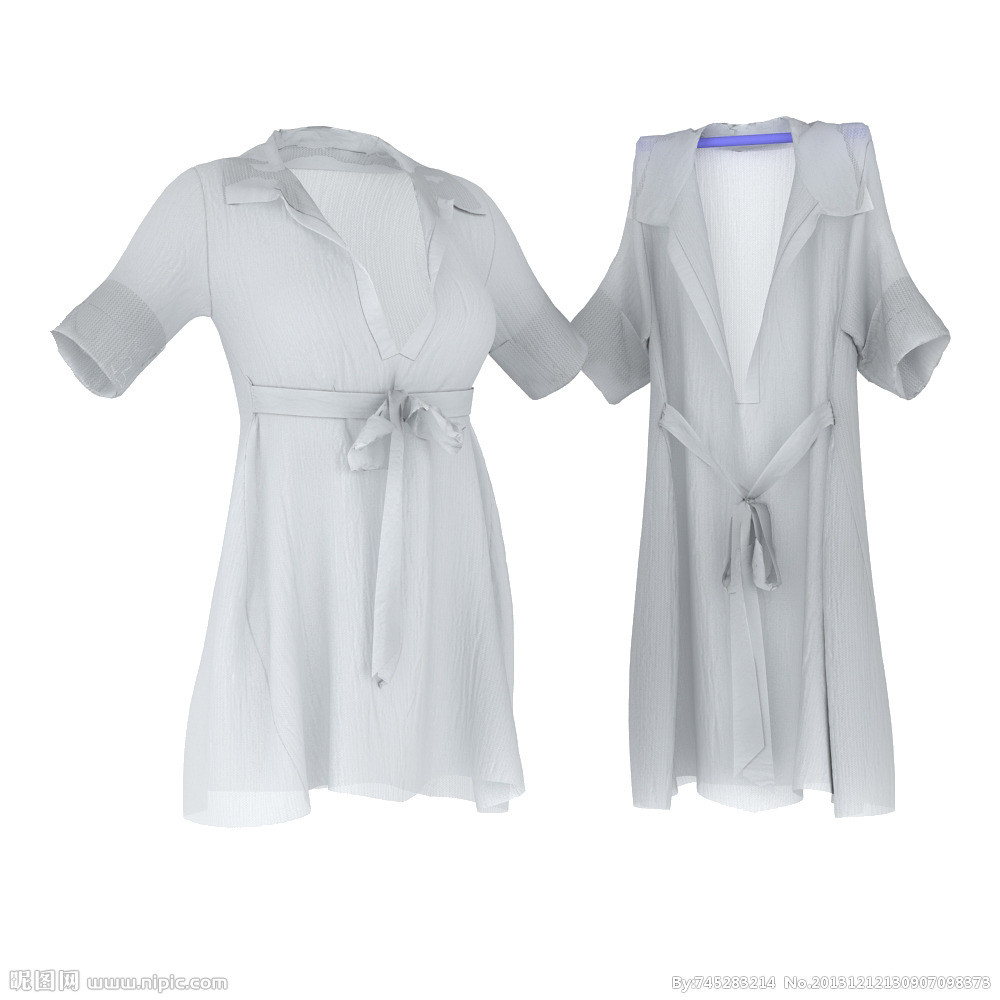flexible: (52, 127, 593, 830), (572, 117, 953, 817)
